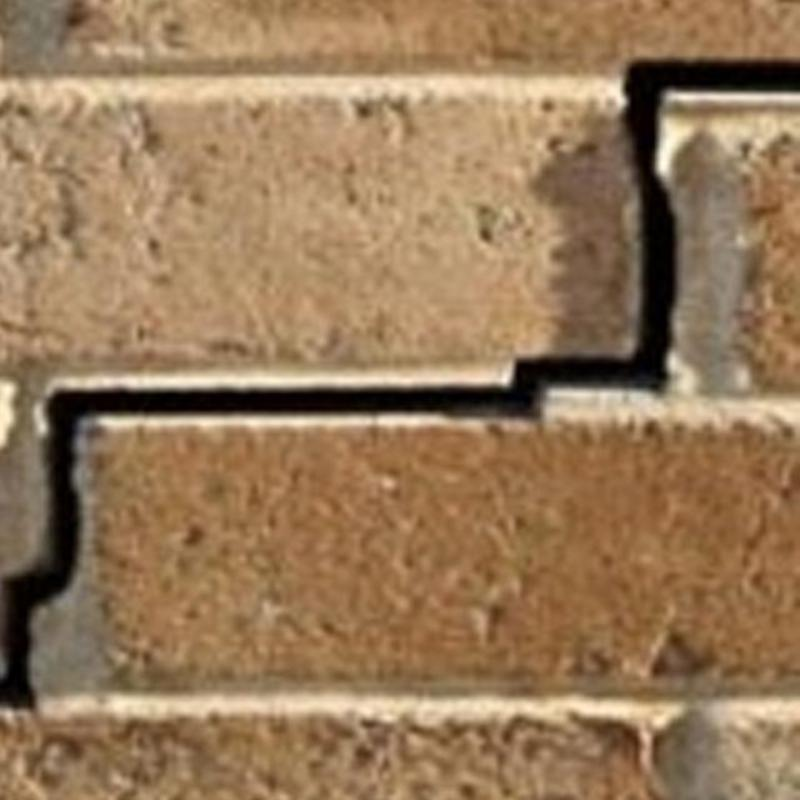pothole: (0, 59, 800, 707)
